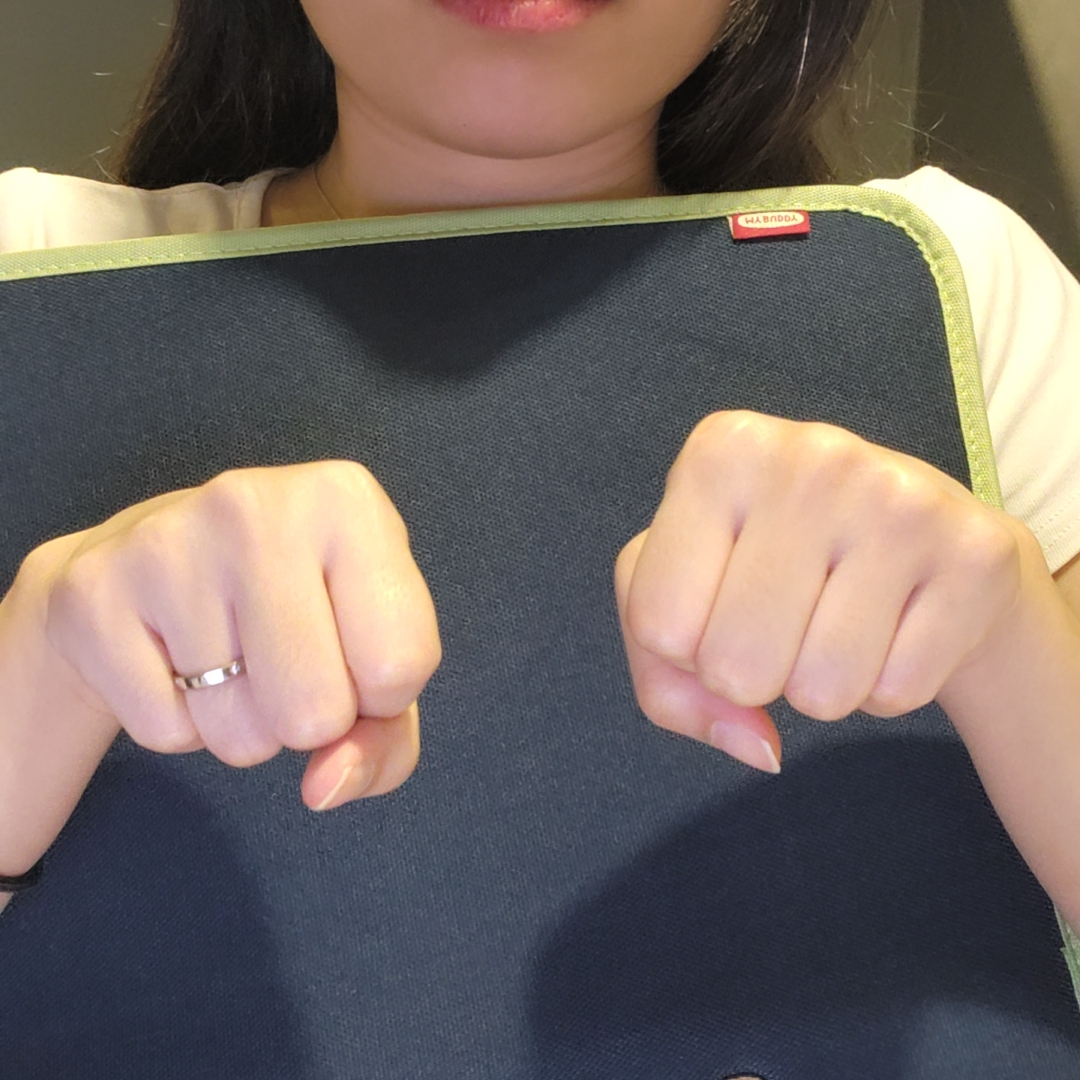hello: (49, 410, 995, 810)
